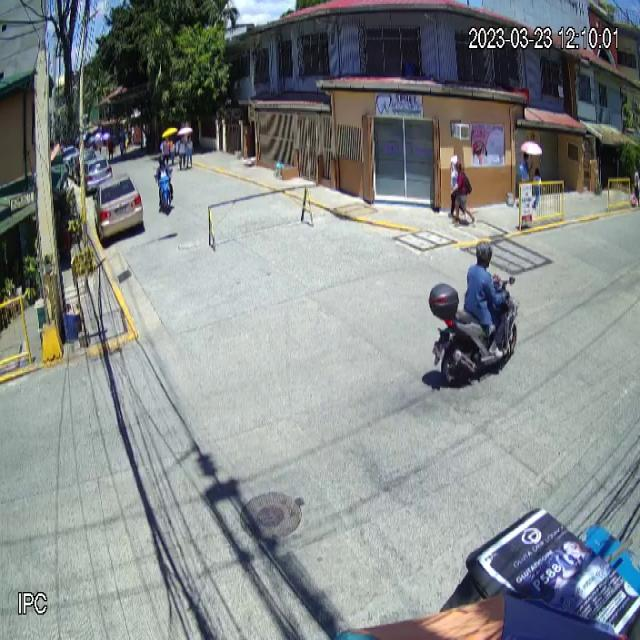Car: (94, 174, 144, 242)
Motorcycle: (429, 271, 524, 390)
